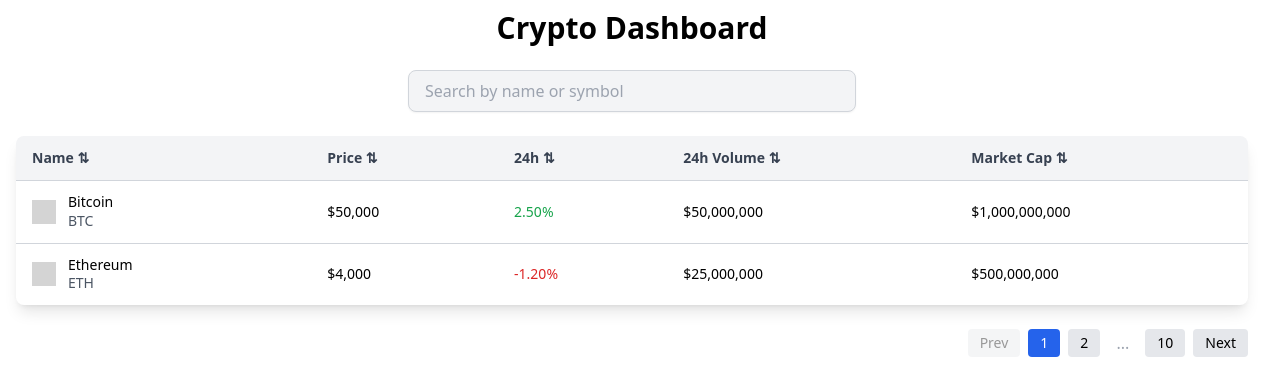
Test: Dashboard › shows no results if search doesn't match
The image size is (1265, 374).
Expected: the text "Bitcoin" is shown, [68,193,113,210]
Type "dogecoin" into the field with placeholder "Search by name or symbol" at (632, 91), box [408,70,856,112]
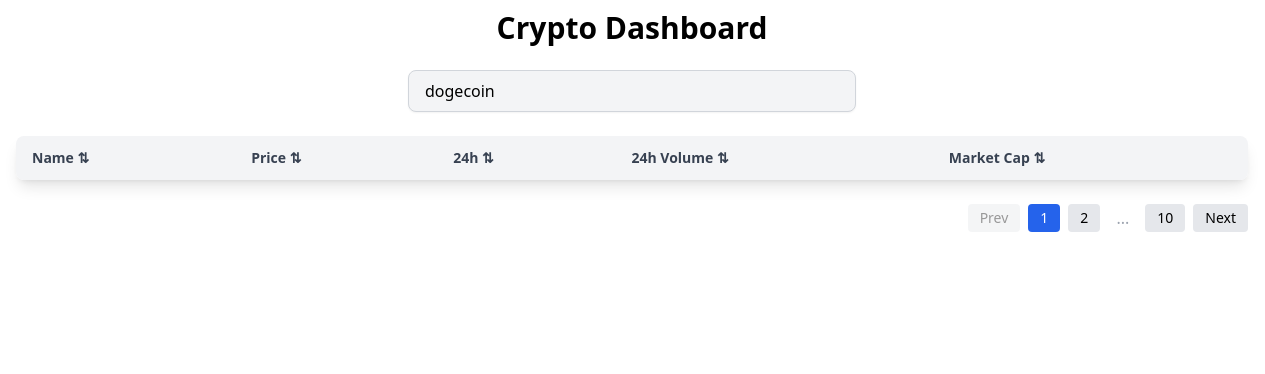
Now the text "Bitcoin" is gone
Now the text "Ethereum" is gone
